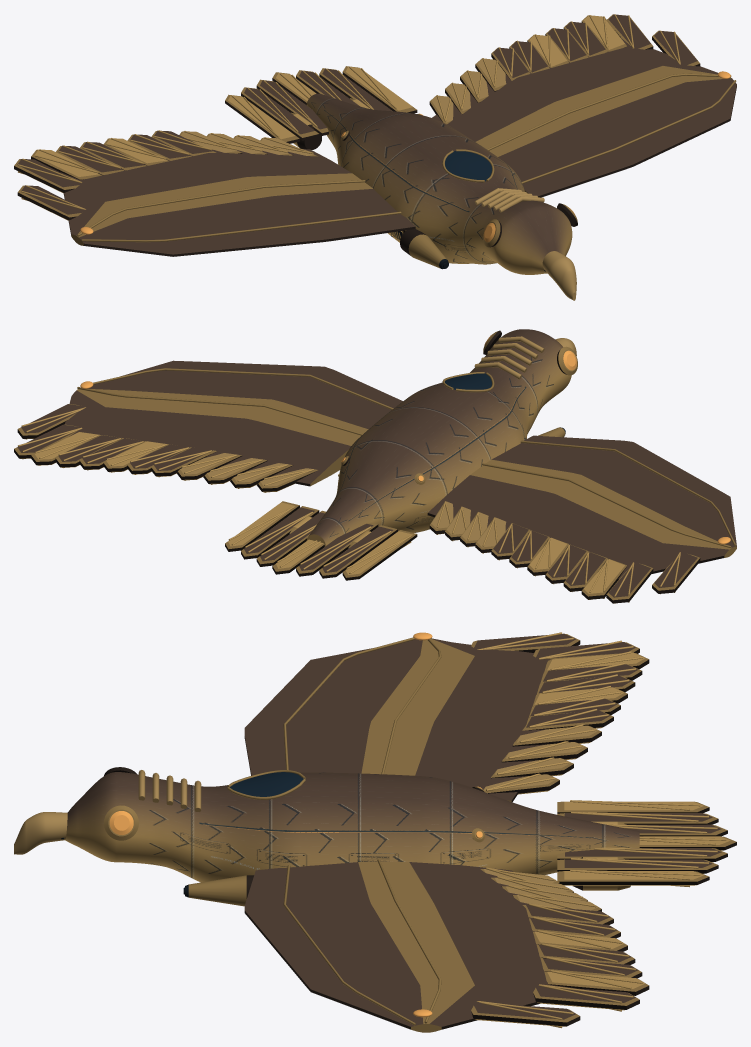
File: ship.glb
The picture shows the model from 3 angles, top to bottom: view 1: azimuth 30°, elevation 25°; view 2: azimuth 150°, elevation 25°; view 3: azimuth 270°, elevation 25°; orthographic projection. The views are drawn at different scales.
Visible parts, largest first — view 1: golden_eagle_hull; view 2: golden_eagle_hull; view 3: golden_eagle_hull.
Boxes of the visible parts, left/top/right/bottom form: golden_eagle_hull: left=14, top=14, right=736, bottom=300; golden_eagle_hull: left=14, top=329, right=736, bottom=603; golden_eagle_hull: left=14, top=632, right=736, bottom=1032.
Bounding box in the file's own units: 264 × 41.18 × 208.
Materials: 1 (1 with a texture image).
